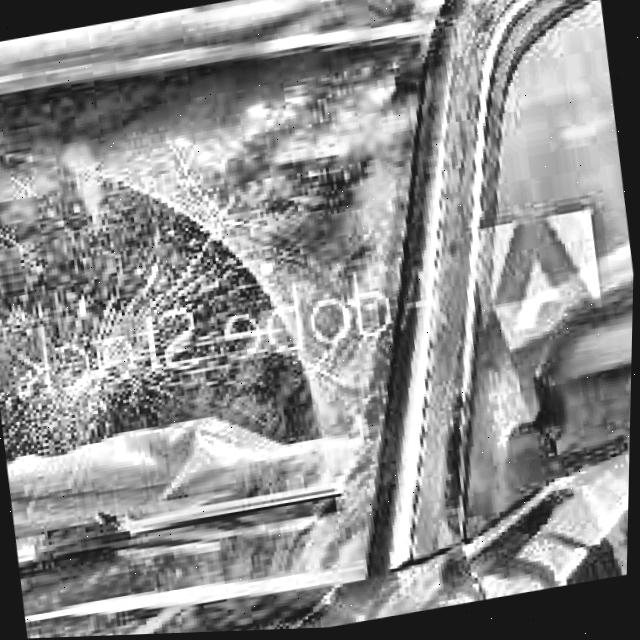glass_shatter: (0, 286, 205, 477)
